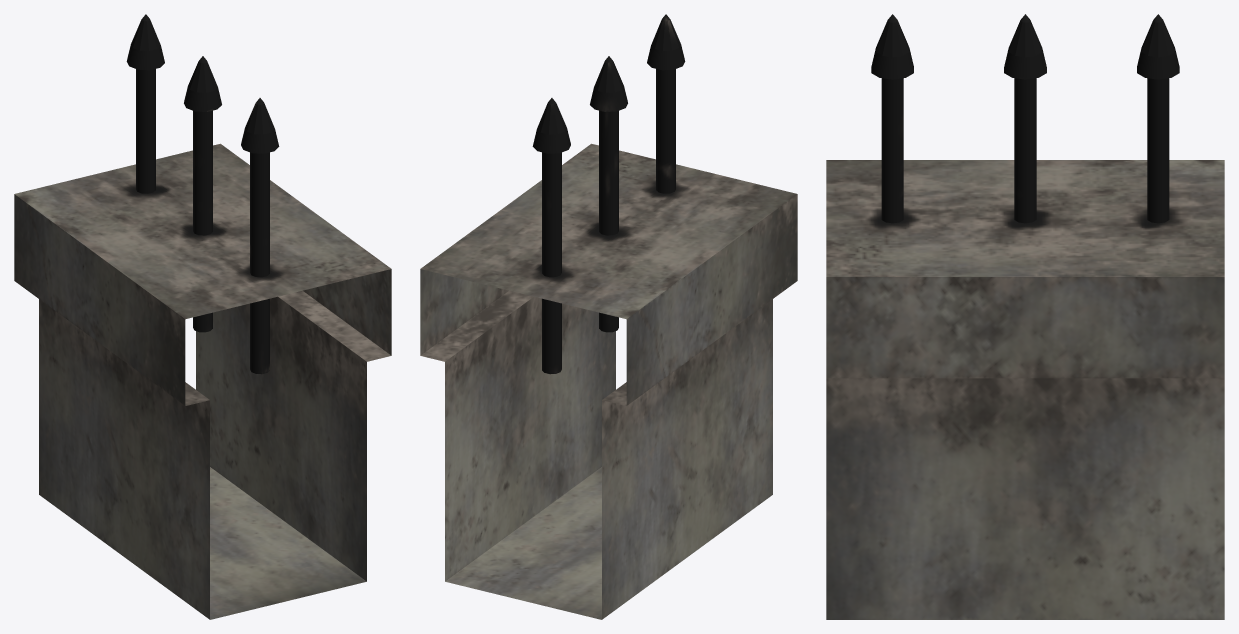
Rendered from Wall2.fbx.
3 renders of one model, left to right at view 1: azimuth 30°, elevation 25°; view 2: azimuth 150°, elevation 25°; view 3: azimuth 270°, elevation 25°, orthographic. The views are drawn at different scales.
Parts seen in each view (by area): view 1: Box002; view 2: Box002; view 3: Box002.
Part boxes in pixels (x1,y1,x2,y2): Box002: (14, 14, 391, 619); Box002: (420, 14, 797, 619); Box002: (826, 14, 1224, 619).
Bounding box in the file's own units: 14.73 × 32.92 × 21.17.
